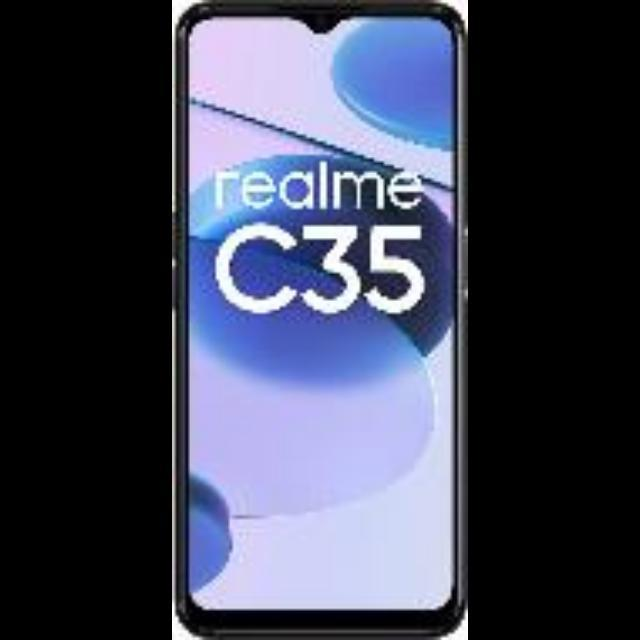Phone: (174, 2, 466, 638)
